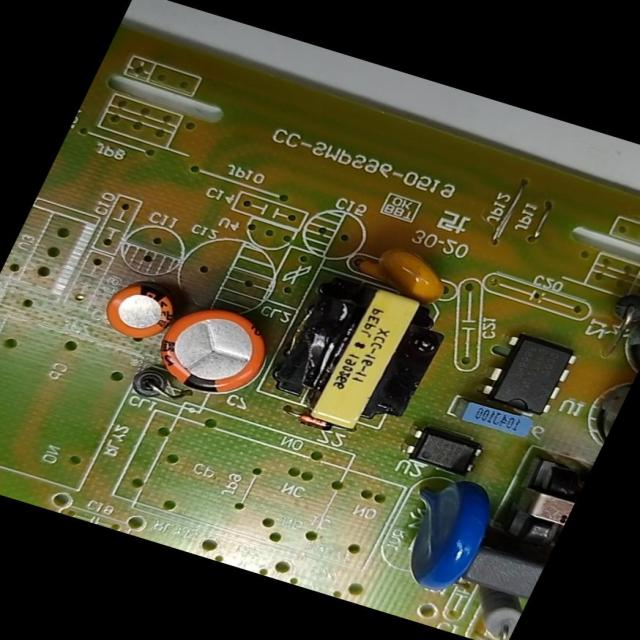Cap1: (142, 294, 286, 408)
Cap2: (95, 276, 185, 348)
Cap3: (569, 371, 634, 463)
Cap4: (615, 277, 639, 376)
MOSFET: (474, 327, 585, 422)
Mov: (374, 470, 508, 600)
Resistor: (454, 581, 529, 640)
Transformer: (254, 268, 459, 448), (489, 447, 592, 557)
